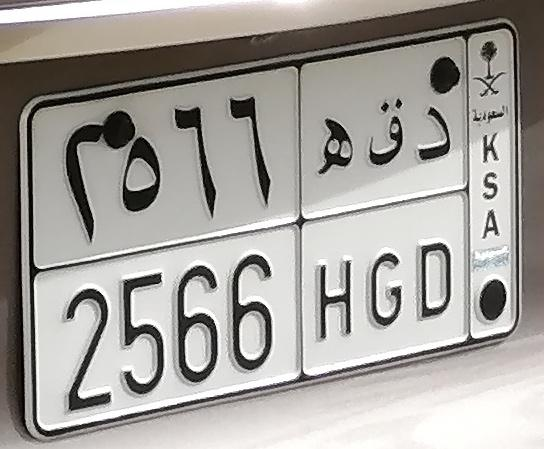2: (60, 115, 112, 412)
5: (116, 131, 169, 403)
6: (169, 102, 222, 393), (227, 94, 281, 376)
D: (418, 102, 456, 320)
G: (367, 95, 413, 333)
H: (312, 115, 361, 344)
